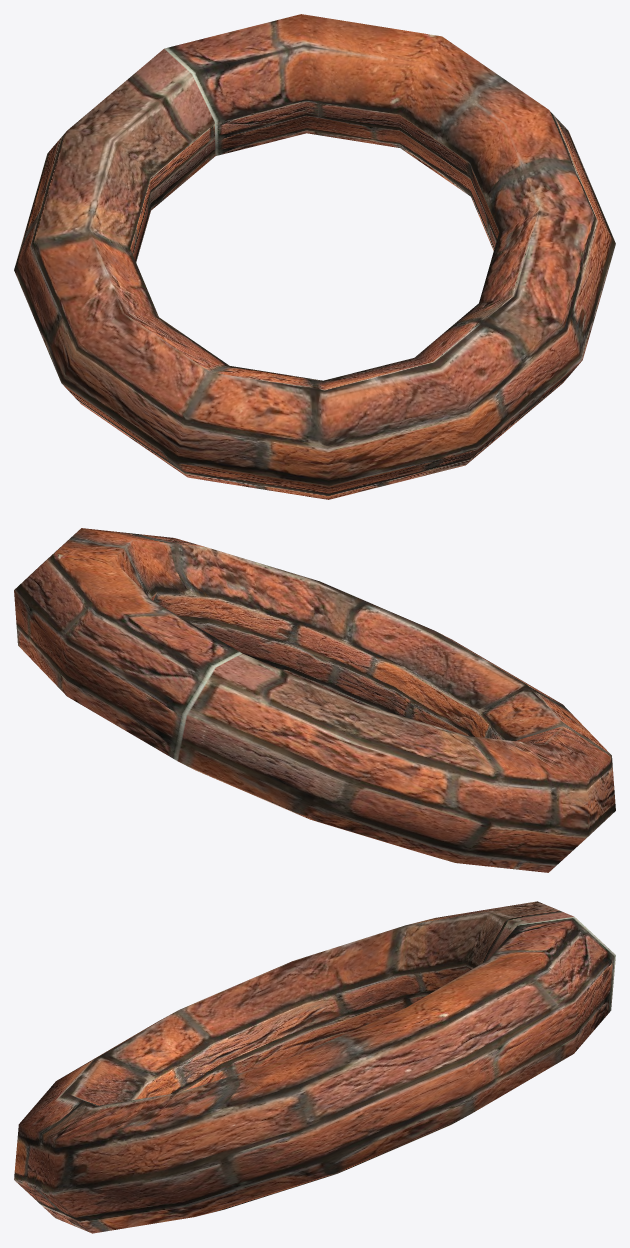
Rendered from torus3DMax.obj.
3 renders of one model, top to bottom at view 1: azimuth 30°, elevation 25°; view 2: azimuth 150°, elevation 25°; view 3: azimuth 270°, elevation 25°, orthographic. The views are drawn at different scales.
Visible parts, largest first — view 1: Torus001; view 2: Torus001; view 3: Torus001.
Boxes of the visible parts, bbox=[...] form: Torus001: bbox=[14, 14, 615, 499]; Torus001: bbox=[14, 528, 615, 872]; Torus001: bbox=[14, 901, 615, 1233].
Bounding box in the file's own units: 5.57 × 3.04 × 5.36.
1 material, 1 textured.
